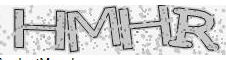H: (119, 4, 173, 54), (10, 6, 65, 51)
M: (66, 6, 120, 57)
R: (169, 6, 220, 54)
